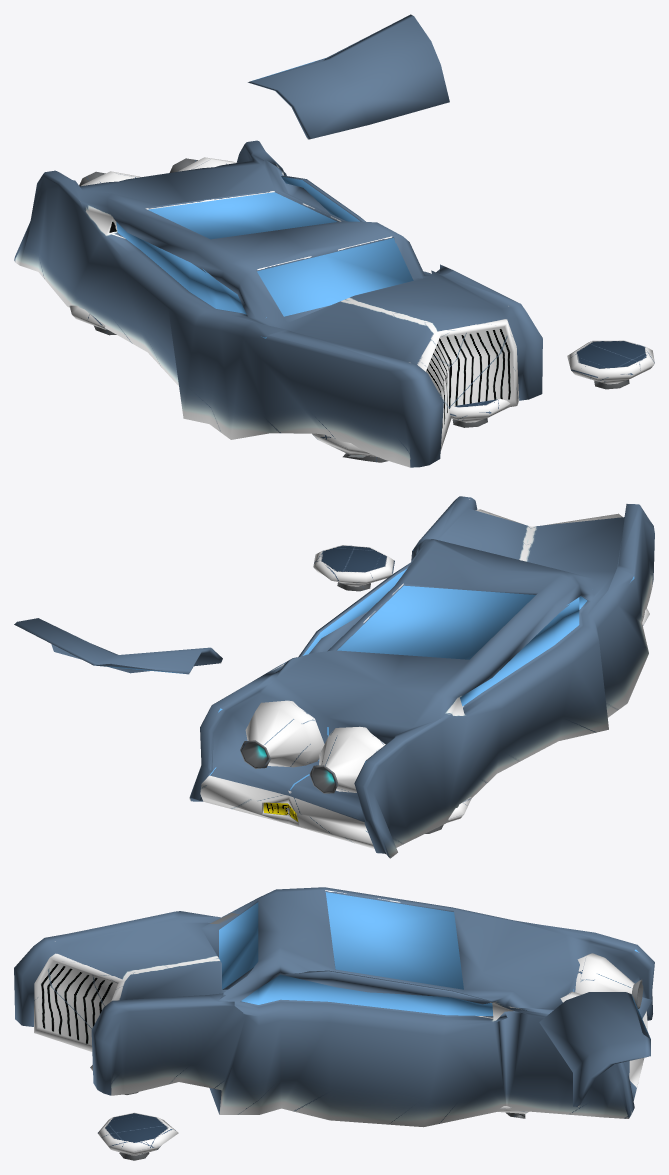
Rendered from CarDead.fbx.
The picture shows the model from 3 angles, top to bottom: view 1: azimuth 30°, elevation 25°; view 2: azimuth 150°, elevation 25°; view 3: azimuth 270°, elevation 25°; orthographic projection. The views are drawn at different scales.
Visible parts, largest first — view 1: Cube.005, Cube.004, Cube.003, Cube.001; view 2: Cube.005, Cube.004, Cube.003; view 3: Cube.005, Cube.004, Cube.003.
Boxes of the visible parts, left/top/right/bottom form: Cube.005: left=14, top=140, right=542, bottom=467; Cube.004: left=247, top=14, right=449, bottom=139; Cube.003: left=567, top=340, right=654, bottom=389; Cube.001: left=449, top=399, right=510, bottom=427; Cube.005: left=189, top=496, right=654, bottom=858; Cube.004: left=14, top=618, right=222, bottom=674; Cube.003: left=313, top=545, right=394, bottom=591; Cube.005: left=14, top=887, right=654, bottom=1127; Cube.004: left=539, top=992, right=650, bottom=1106; Cube.003: left=97, top=1112, right=178, bottom=1160.
Size of the model in its own units: 6.17 by 2.39 by 8.68.
